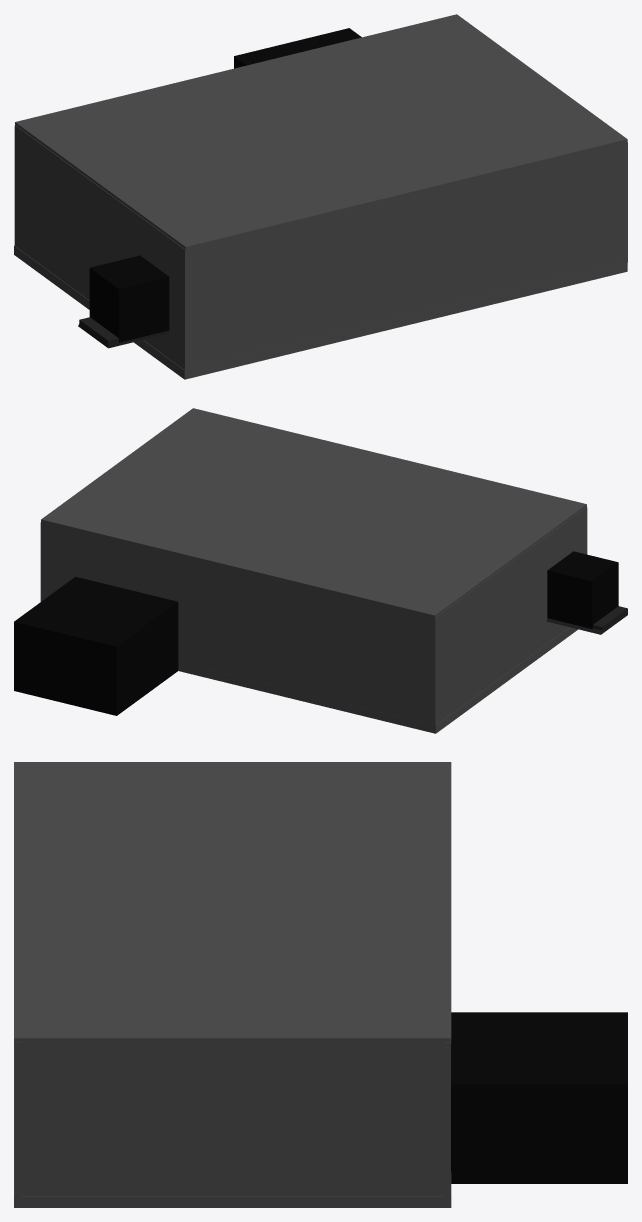
File: New_Warehouse.fbx
The picture shows the model from 3 angles, top to bottom: view 1: azimuth 30°, elevation 25°; view 2: azimuth 150°, elevation 25°; view 3: azimuth 270°, elevation 25°; orthographic projection. The views are drawn at different scales.
Parts seen in each view (by area): view 1: roof, back_wall, left_wall, floor, front_wall, Industrail_roll; view 2: roof, front_wall, left_wall, floor, Industrail_roll; view 3: roof, right_wall, front_wall, floor, back_wall.
Boxes of the visible parts, box(x1,y1,x2,y2) form: roof: box(15, 14, 627, 250); back_wall: box(182, 142, 627, 370); left_wall: box(15, 125, 184, 367); floor: box(14, 245, 627, 379); front_wall: box(14, 28, 361, 246); Industrail_roll: box(78, 317, 169, 348); roof: box(41, 408, 586, 618); front_wall: box(14, 522, 437, 725); left_wall: box(436, 507, 618, 723); floor: box(178, 627, 577, 733); Industrail_roll: box(546, 606, 627, 634); roof: box(14, 762, 451, 1043); right_wall: box(21, 1043, 443, 1195); front_wall: box(444, 1012, 627, 1196); floor: box(14, 1044, 451, 1207); back_wall: box(14, 1042, 21, 1196).
Size of the model in its own units: 3930 by 3236 by 1006.
11 materials, 11 textured.
